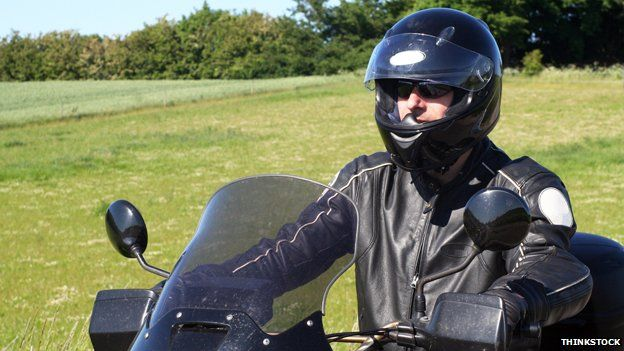with_helmet: (358, 5, 505, 174)
